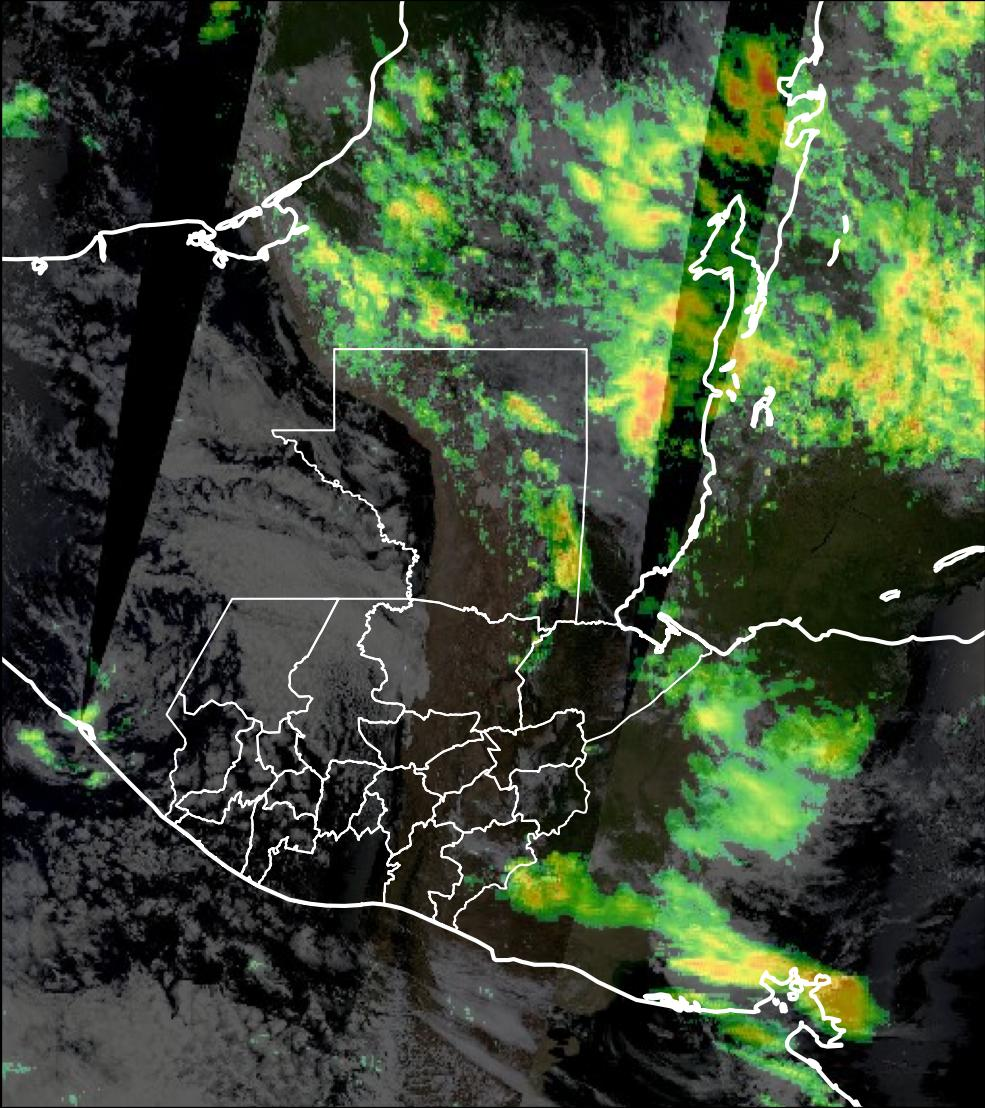precipitacion: (713, 41, 786, 157), (611, 362, 673, 452)
